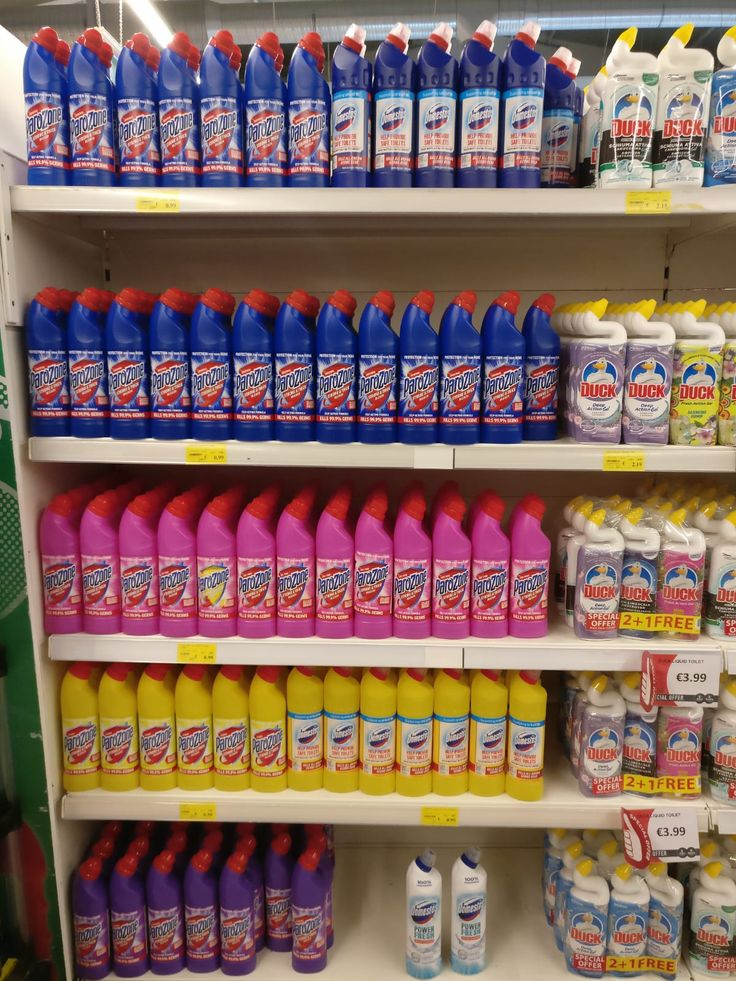Duck: (564, 292, 628, 450)
Parazone: (228, 497, 277, 645)
